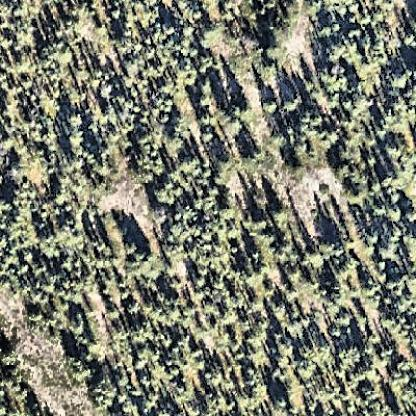tree-top: (16, 150, 54, 187), (319, 66, 351, 96), (240, 143, 270, 172), (123, 240, 153, 267), (231, 97, 260, 124), (89, 373, 116, 402), (151, 182, 179, 209), (318, 234, 346, 260), (246, 327, 270, 357), (375, 235, 401, 260), (52, 41, 76, 67), (276, 337, 302, 361), (64, 204, 88, 229), (64, 352, 89, 376), (328, 38, 350, 65), (39, 234, 59, 263), (386, 67, 410, 91), (264, 39, 287, 63), (203, 366, 226, 390), (12, 381, 35, 404), (250, 213, 272, 237), (272, 392, 294, 416), (68, 135, 88, 161), (270, 204, 293, 226), (372, 121, 392, 146), (258, 94, 281, 115), (287, 159, 310, 180), (331, 161, 354, 182), (196, 76, 217, 98), (282, 93, 304, 114), (163, 136, 185, 157), (102, 301, 123, 322), (197, 110, 220, 129), (67, 127, 87, 148), (27, 306, 47, 327), (334, 309, 356, 328), (221, 186, 240, 208), (66, 109, 86, 129), (315, 185, 335, 205), (98, 80, 117, 101), (388, 205, 409, 223), (1, 345, 17, 367), (124, 298, 143, 316), (70, 308, 87, 327), (1, 194, 15, 215), (18, 249, 35, 265), (404, 207, 416, 228), (1, 1, 15, 19), (404, 31, 416, 51)
